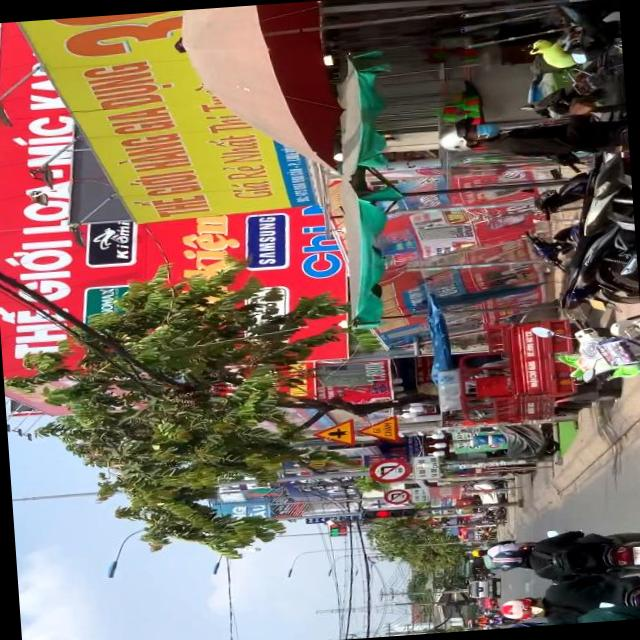W-207a: (308, 415, 356, 448)
W-245a: (354, 415, 400, 444)
